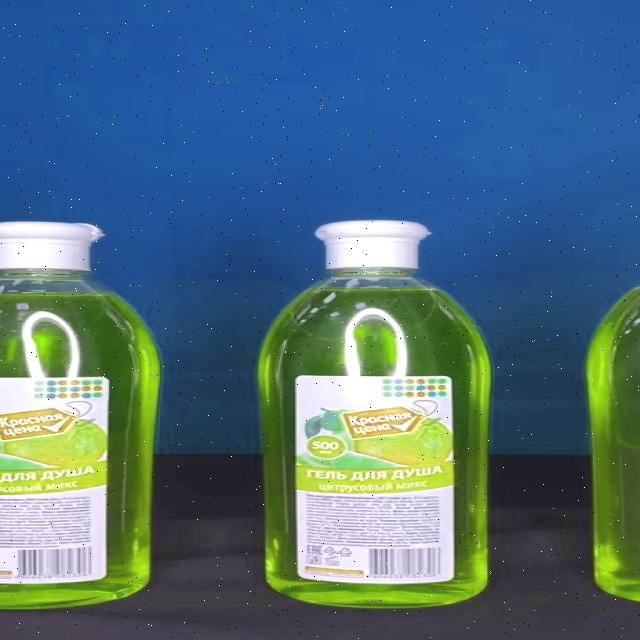Bottle: (258, 221, 492, 608)
Cap: (315, 222, 433, 268)
